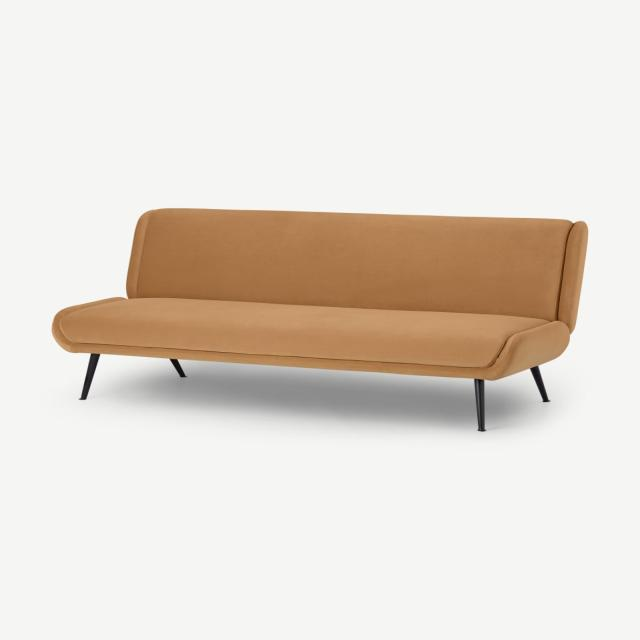Soffa: (47, 189, 592, 436)
